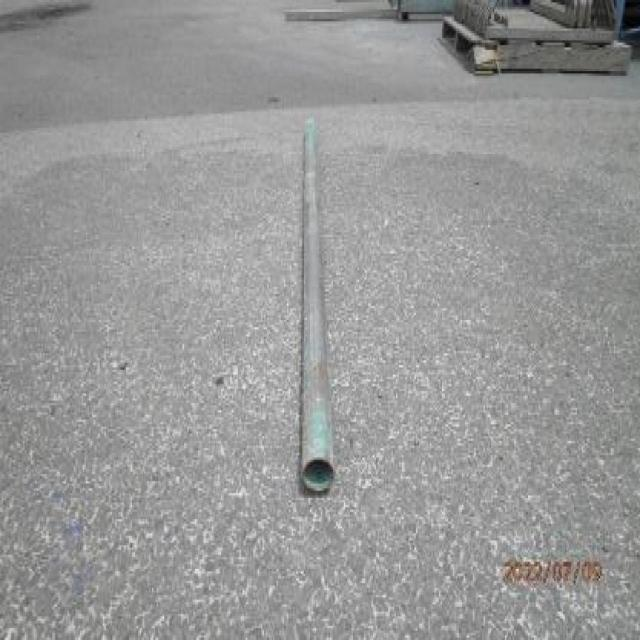pipe: (302, 458, 335, 494)
